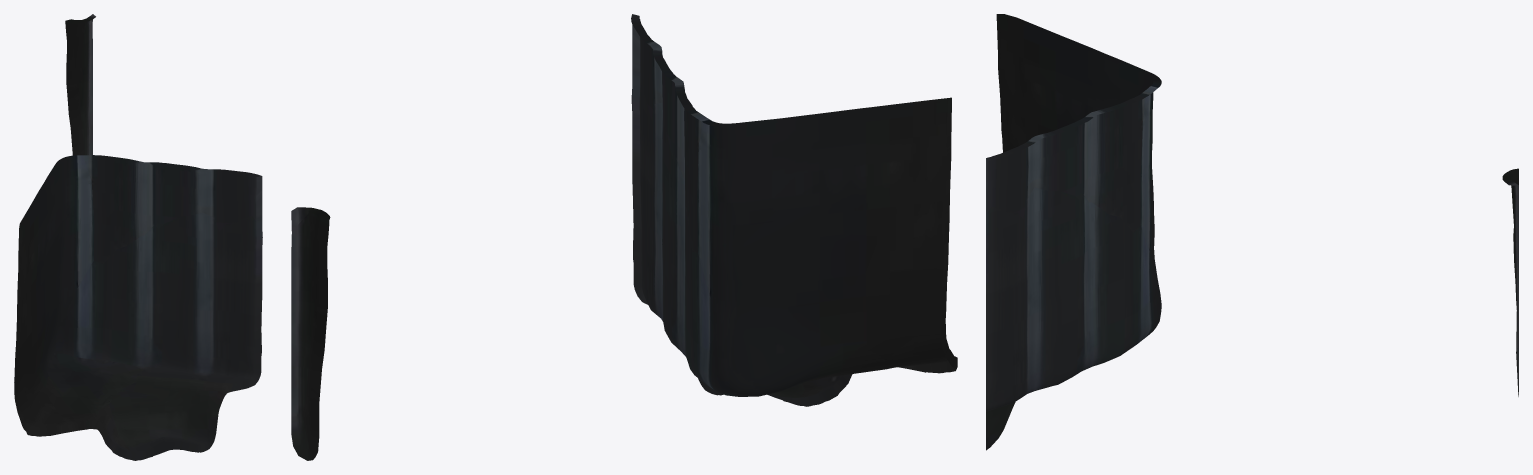
File: z20-167779-405234-h0-yup-uvflip-v3-world.glb
3 views of the same model, side by side, from view 1: azimuth 30°, elevation 25°; view 2: azimuth 150°, elevation 25°; view 3: azimuth 270°, elevation 25° (orthographic). The views are drawn at different scales.
Size of the model in its own units: 23.12 by 21 by 30.32.
Materials: 1 (1 with a texture image).
